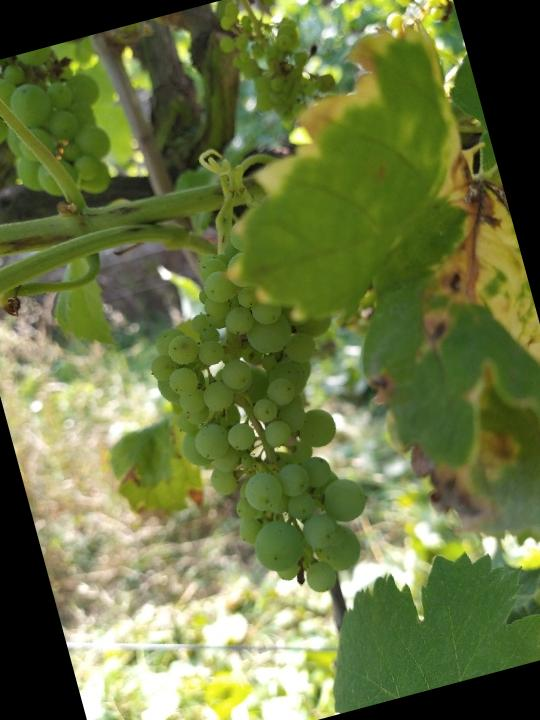grape: (117, 220, 392, 627)
